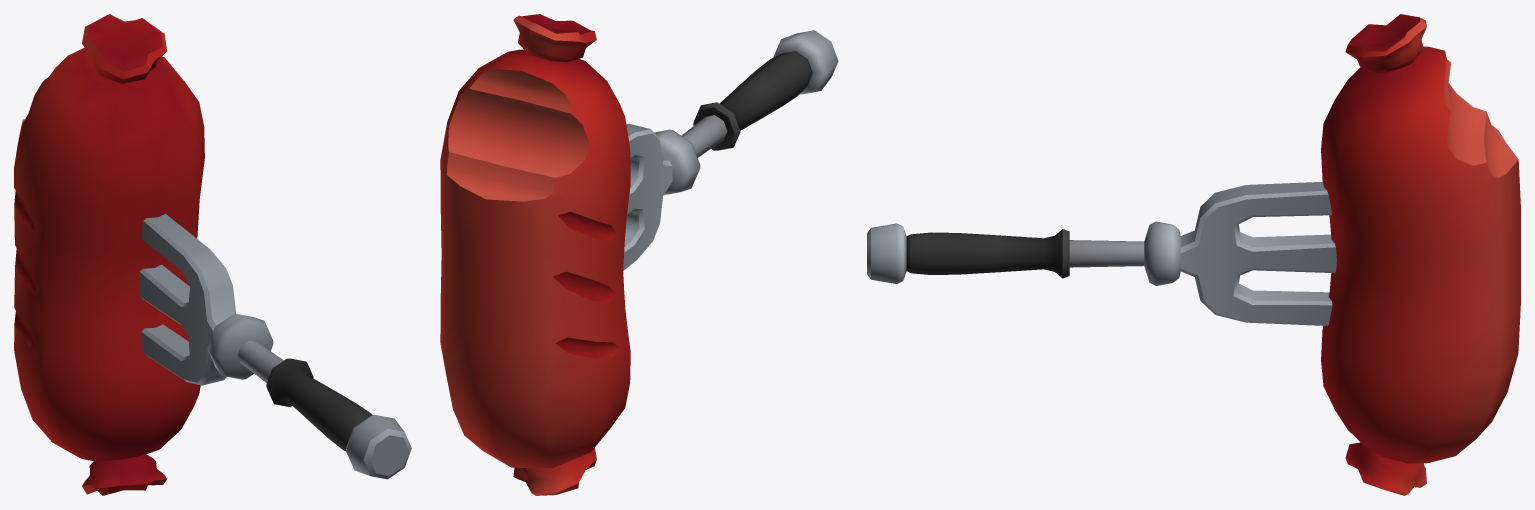
Rendered from Melee_Sausage.fbx.
3 renders of one model, left to right at view 1: azimuth 30°, elevation 25°; view 2: azimuth 150°, elevation 25°; view 3: azimuth 270°, elevation 25°, orthographic.
Parts seen in each view (by area): view 1: Melee_Sausage; view 2: Melee_Sausage; view 3: Melee_Sausage.
Boxes of the visible parts, x1,y1,x2,y2 form: Melee_Sausage: (14, 14, 411, 495); Melee_Sausage: (440, 14, 838, 495); Melee_Sausage: (867, 14, 1520, 495).
Size of the model in its own units: 0.322 by 0.9101 by 1.16.
